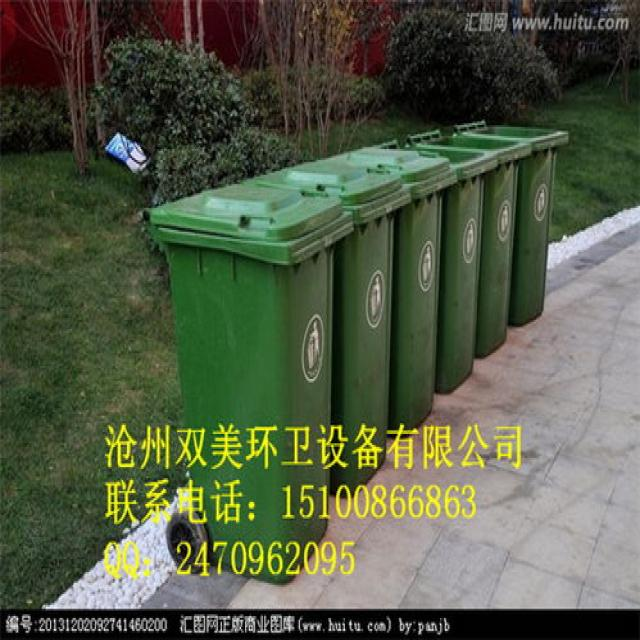garbage_bin: (144, 176, 350, 585), (254, 160, 410, 498), (319, 143, 456, 436), (374, 138, 496, 392), (404, 127, 531, 357), (455, 120, 568, 326)
